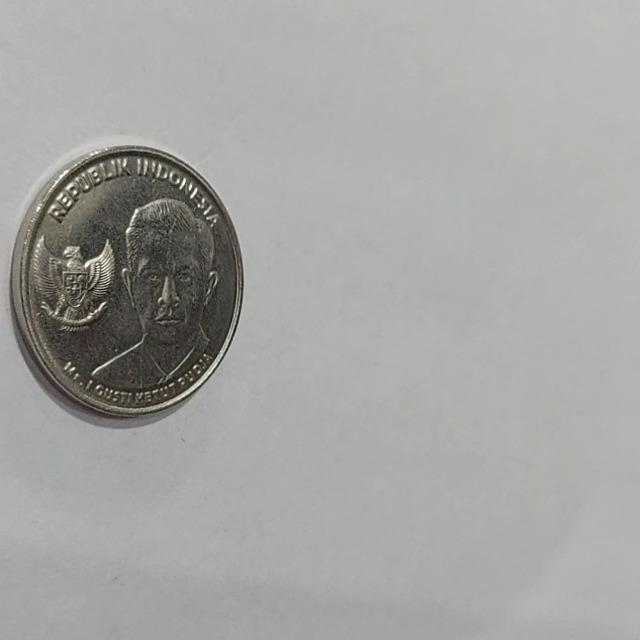Rp100: (9, 141, 245, 421), (86, 196, 220, 392)
